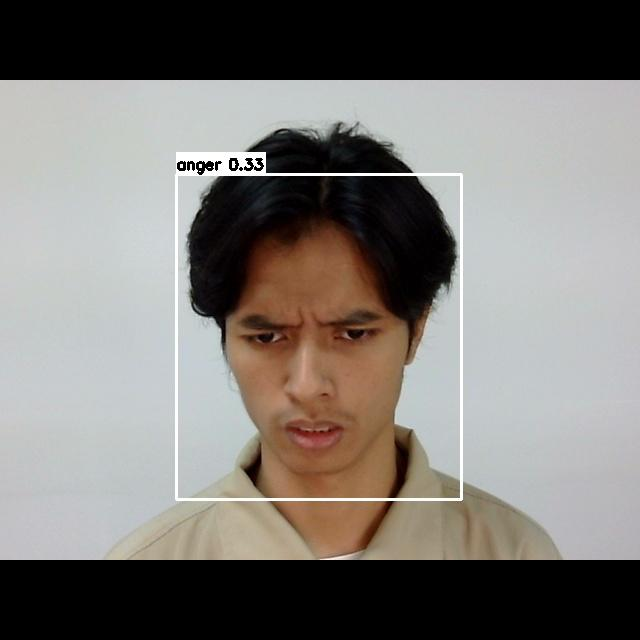Disgust: (221, 285, 407, 456)
